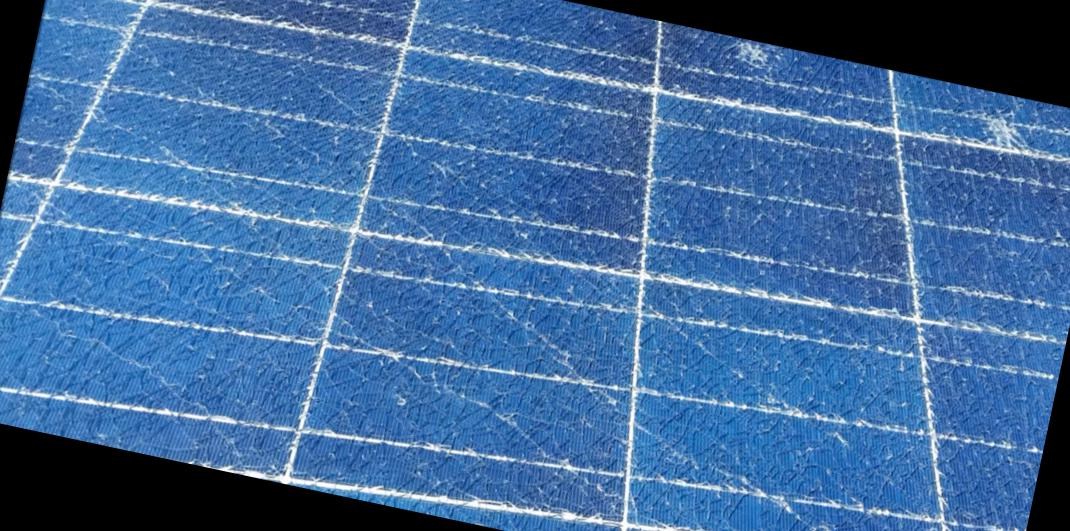Crack: (953, 100, 1045, 182), (721, 39, 795, 88)
